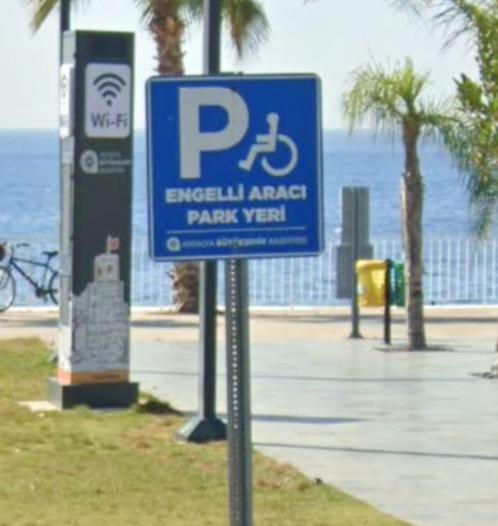disabledpark: (170, 81, 307, 184)
